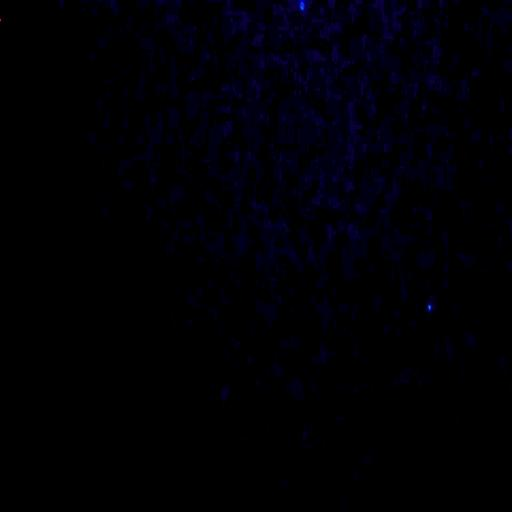object-detection-project: (299, 0, 305, 10)
